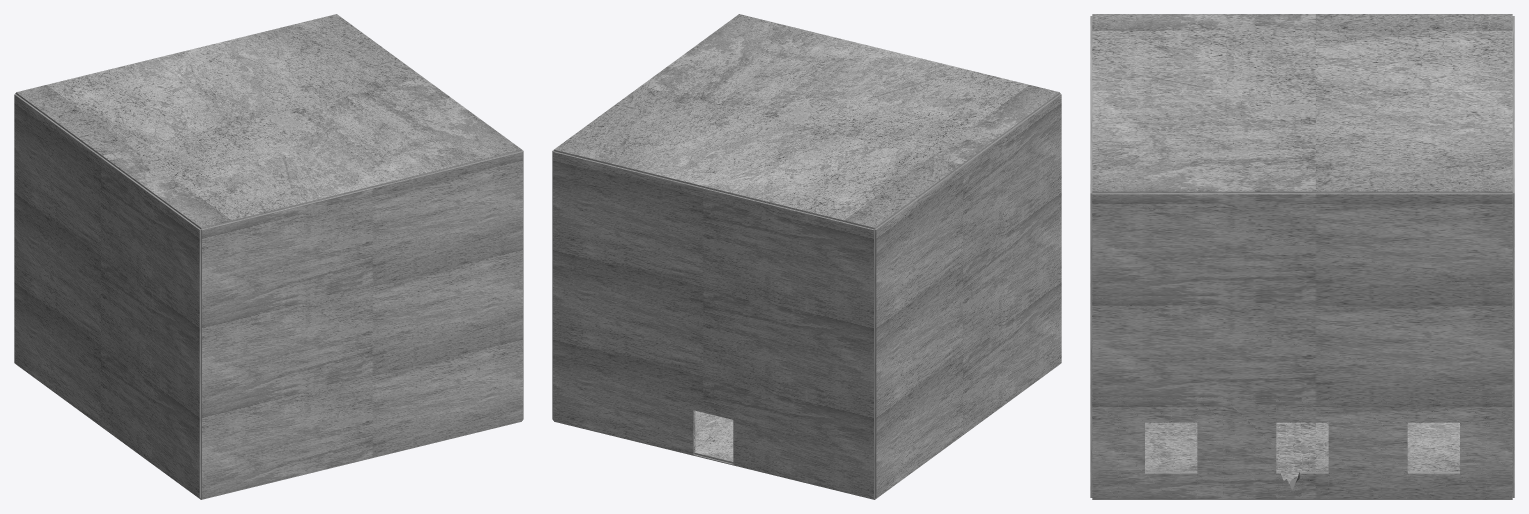
Rendered from Building.fbx.
3 views of the same model, side by side, from view 1: azimuth 30°, elevation 25°; view 2: azimuth 150°, elevation 25°; view 3: azimuth 270°, elevation 25° (orthographic). The views are drawn at different scales.
Parts seen in each view (by area): view 1: Ground.001, Wall4.003, Wall4, Wall4.002, Wall.004, Wall.001, Wall; view 2: Ground.001, Wall4.004, Wall4.001, Wall3, Wall.004, Wall.001, Wall, Ground; view 3: Ground.001, Wall.003, Wall.002, Wall2, Ground, Wall4.004, Wall4.003.
Boxes of the visible parts, bbox=[...] form: Ground.001: bbox=[16, 14, 521, 229]; Wall4.003: bbox=[201, 151, 522, 319]; Wall4: bbox=[201, 331, 522, 498]; Wall4.002: bbox=[201, 241, 522, 409]; Wall.004: bbox=[14, 94, 201, 319]; Wall.001: bbox=[14, 184, 201, 408]; Wall: bbox=[14, 274, 201, 498]; Ground.001: bbox=[554, 14, 1059, 229]; Wall4.004: bbox=[553, 151, 874, 319]; Wall4.001: bbox=[553, 241, 874, 409]; Wall3: bbox=[553, 331, 874, 498]; Wall.004: bbox=[874, 94, 1061, 319]; Wall.001: bbox=[874, 184, 1061, 408]; Wall: bbox=[874, 274, 1061, 498]; Ground: bbox=[554, 373, 1047, 499]; Ground.001: bbox=[1092, 14, 1512, 193]; Wall.003: bbox=[1092, 193, 1512, 295]; Wall.002: bbox=[1092, 296, 1512, 397]; Wall2: bbox=[1092, 397, 1512, 498]; Ground: bbox=[1092, 422, 1512, 499]; Wall4.004: bbox=[1512, 16, 1514, 294]; Wall4.003: bbox=[1090, 16, 1092, 294].
Size of the model in its own units: 6060 by 4860 by 6060.
16 materials, 16 textured.
